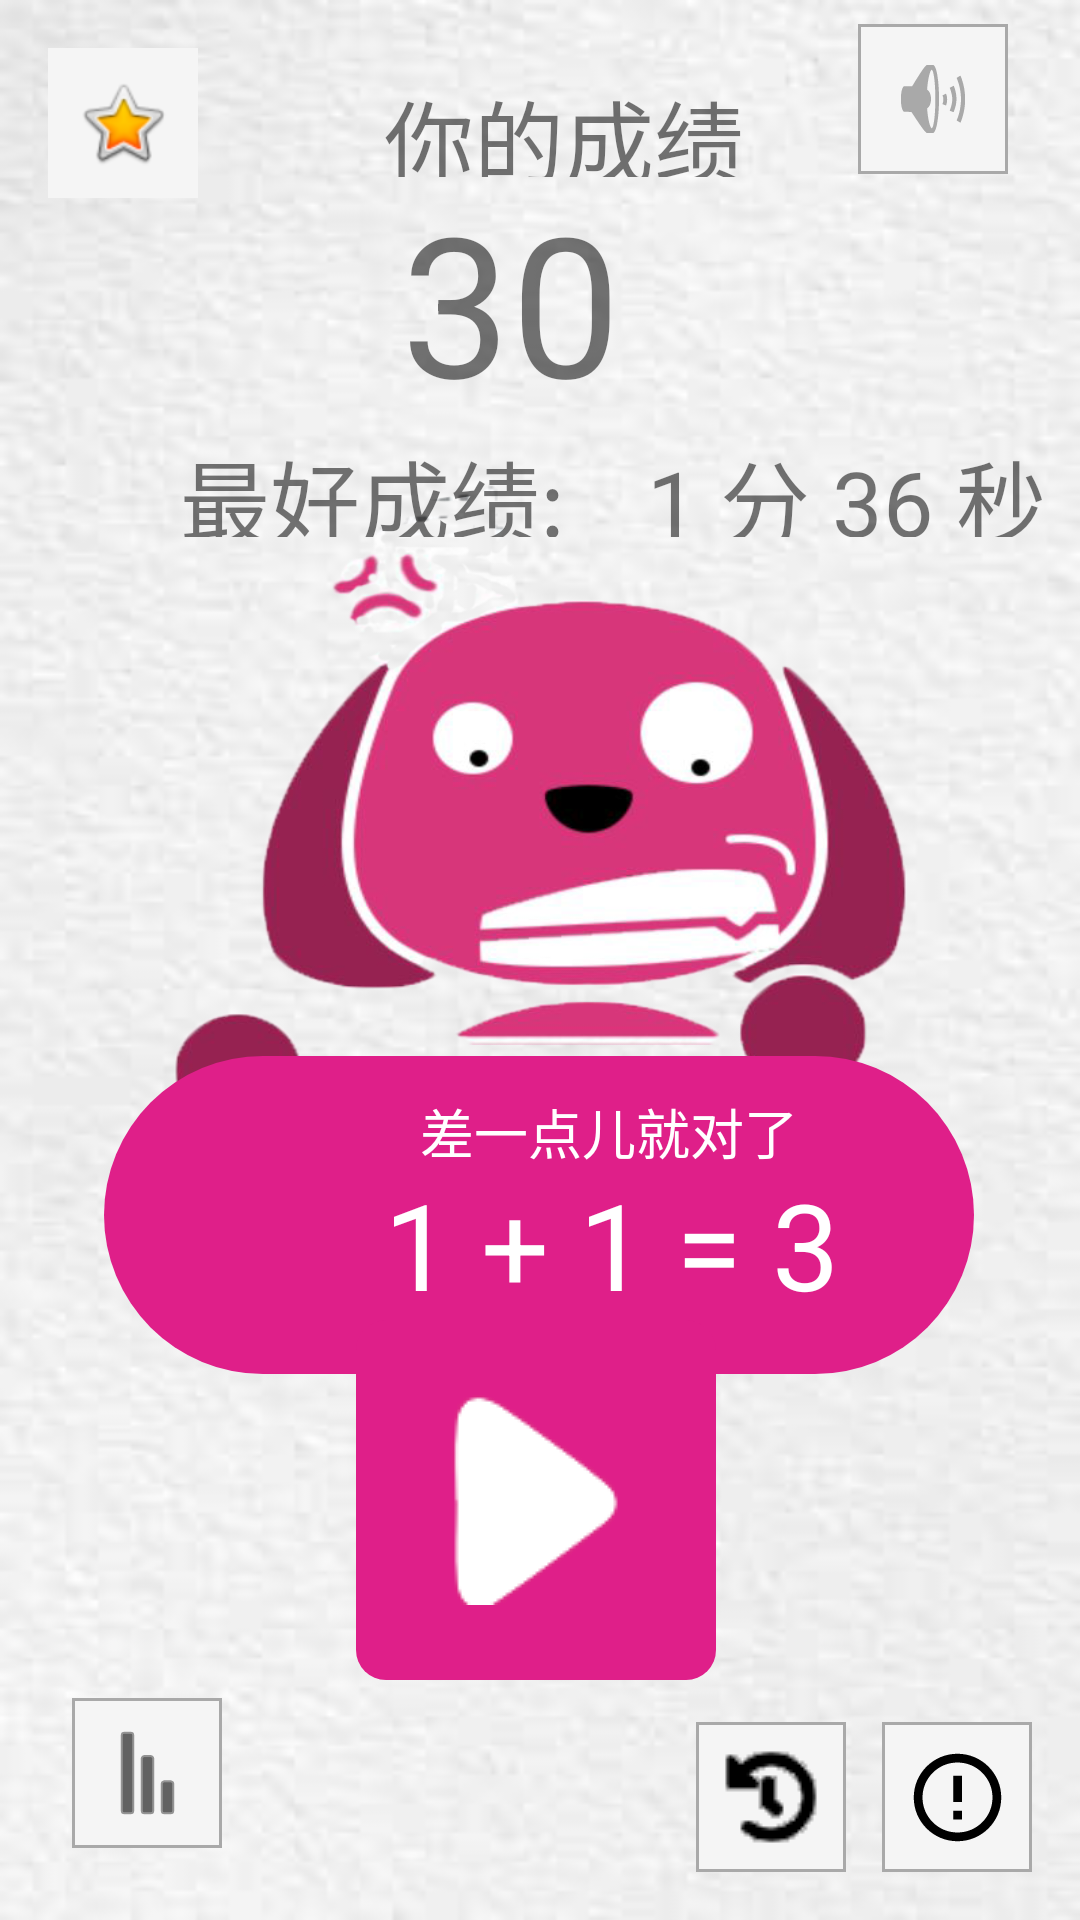

Locate icon controls on the screen. Image size 1080 × 1920, boxes as box=[x1, y1, x2, y2].
error: box=[882, 1722, 1032, 1872]
history: box=[696, 1722, 846, 1872]
star on: box=[48, 48, 198, 198]
start trigon: box=[454, 1397, 618, 1605]
